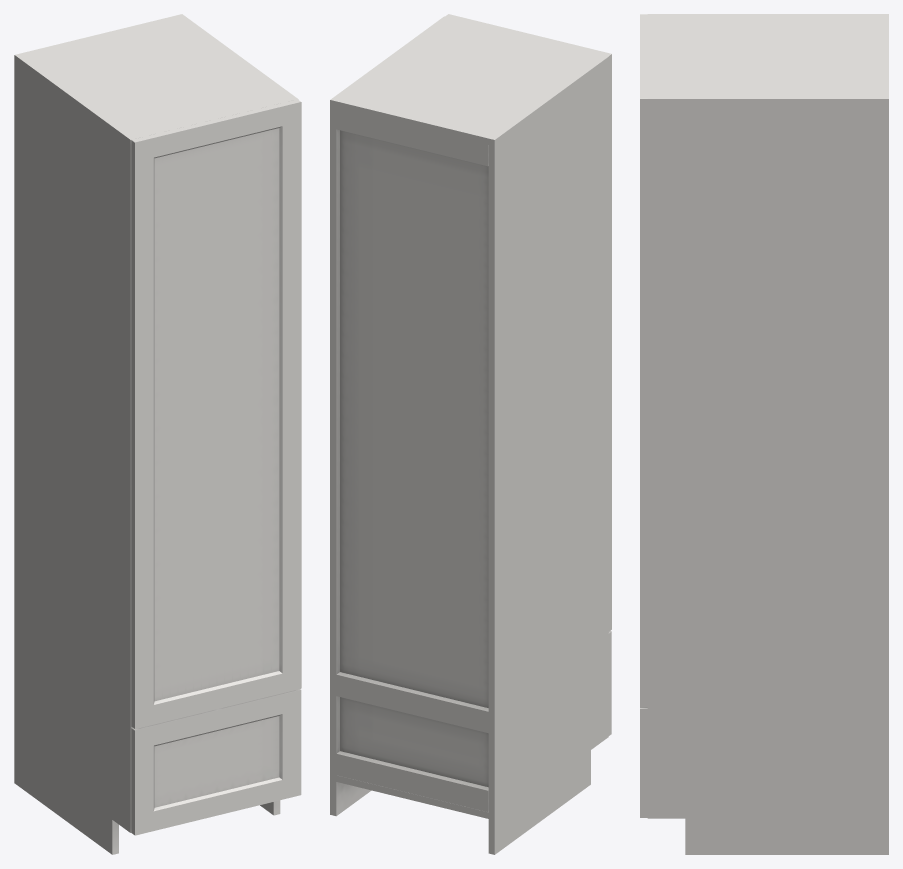
Rendered from tall-1-door-1-drawer-doors-on.glb.
The picture shows the model from 3 angles, left to right: view 1: azimuth 30°, elevation 25°; view 2: azimuth 150°, elevation 25°; view 3: azimuth 270°, elevation 25°; orthographic projection. The views are drawn at different scales.
Parts seen in each view (by area): view 1: part_13, part_0; view 2: part_0, part_13; view 3: part_0, part_13.
Part boxes in pixels (bbox=[...]): part_13: bbox=[131, 99, 301, 835]; part_0: bbox=[14, 14, 298, 854]; part_0: bbox=[330, 16, 608, 854]; part_13: bbox=[445, 14, 611, 735]; part_0: bbox=[647, 14, 888, 854]; part_13: bbox=[640, 14, 647, 817].
Size of the model in its own units: 0.508 by 2.11 by 0.6287.
3 materials, 2 textured.
